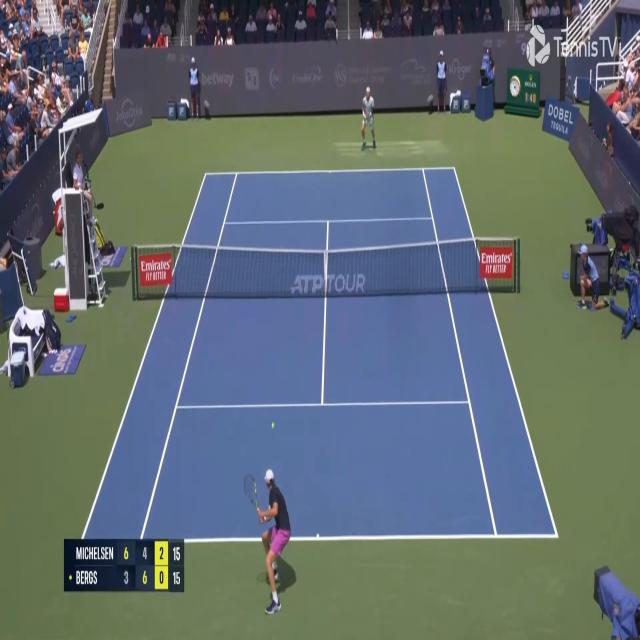tennis-player: (247, 466, 296, 617), (360, 84, 377, 154)
